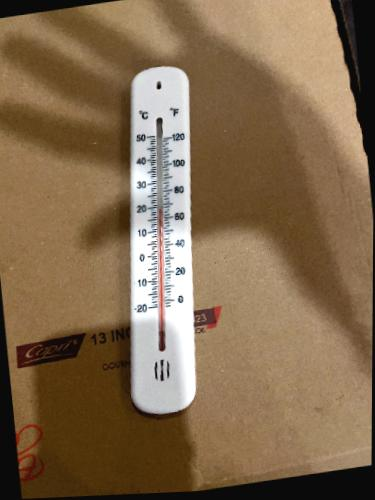thermo: (128, 64, 198, 417)
